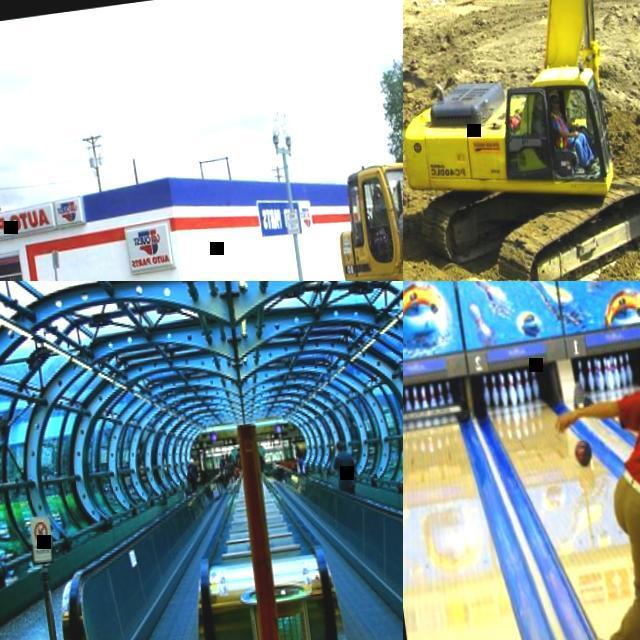no_helmet: (335, 442, 346, 454), (549, 95, 557, 102), (188, 460, 194, 466), (226, 457, 229, 462), (298, 455, 300, 459)
